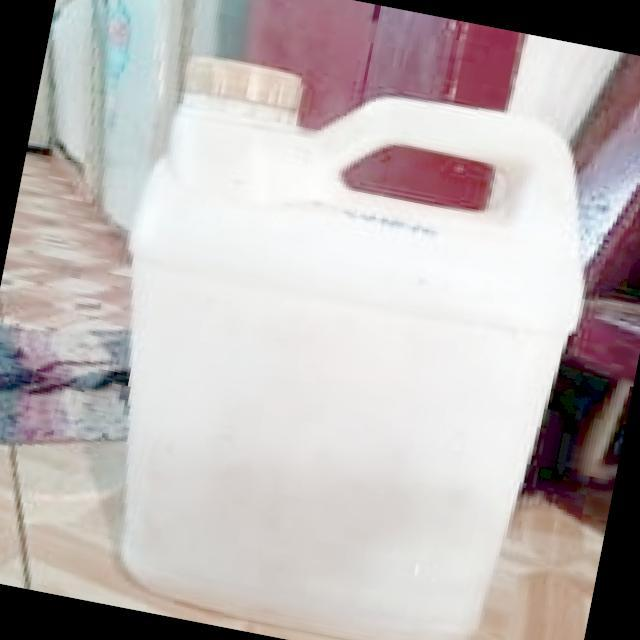HDPE Plastic: (118, 52, 594, 619)
